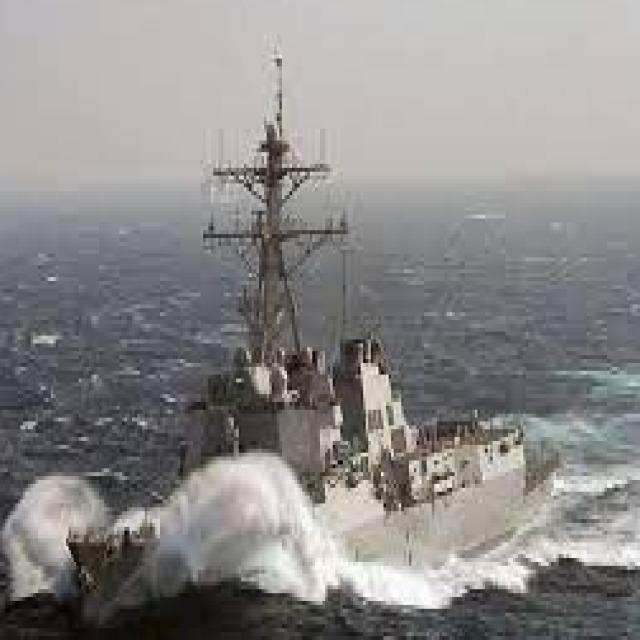navalvessels: (81, 30, 545, 620)
